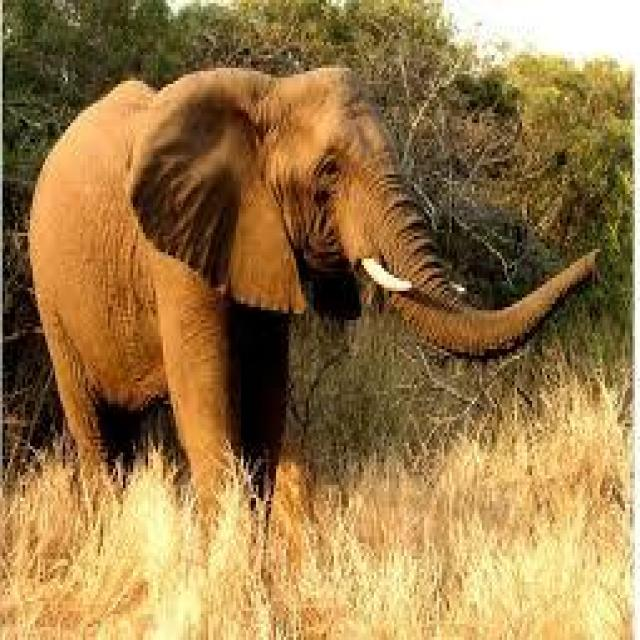Elephant: (20, 61, 595, 511)
